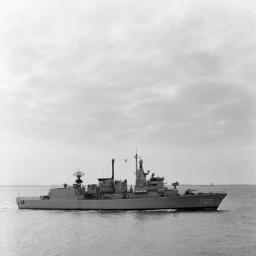Fragata: (15, 146, 231, 215)
